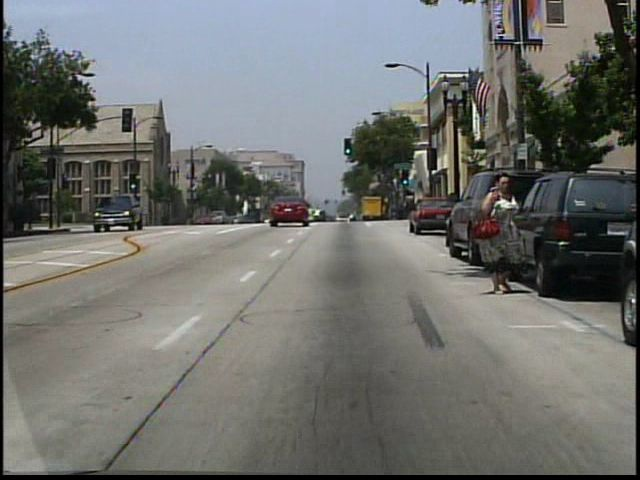person: (475, 173, 533, 298)
